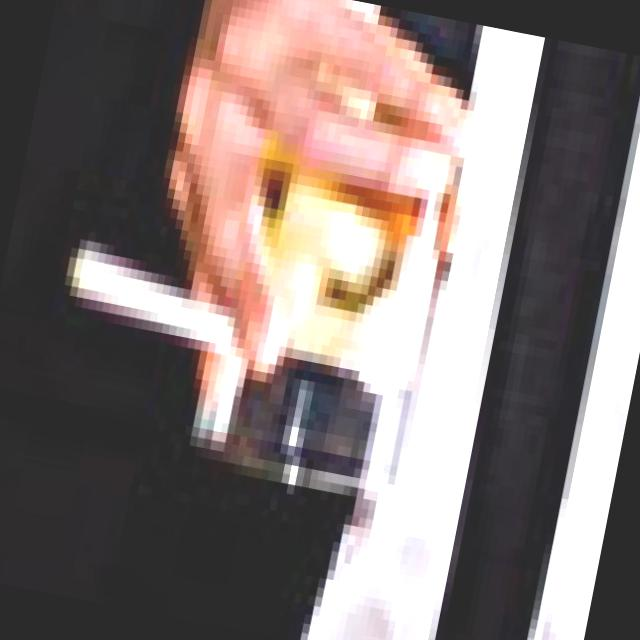cigarette: (42, 245, 264, 369)
